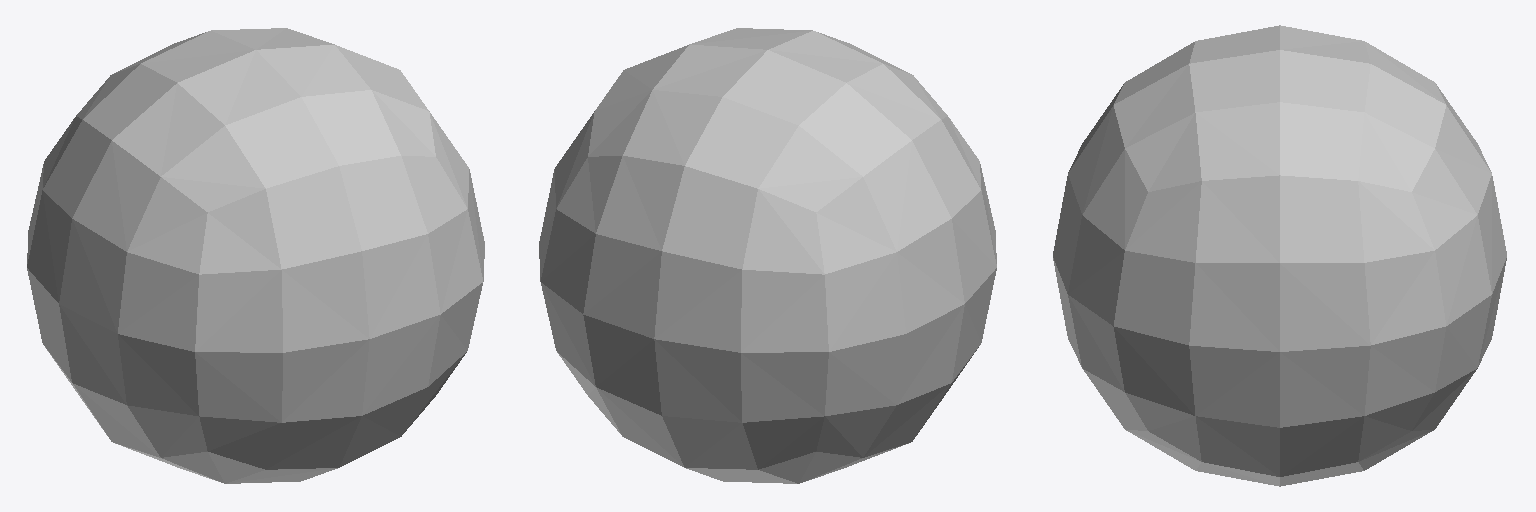
File: SphereToy.obj
3 views of the same model, side by side, from view 1: azimuth 30°, elevation 25°; view 2: azimuth 150°, elevation 25°; view 3: azimuth 270°, elevation 25° (orthographic).
Parts seen in each view (by area): view 1: SphereToy; view 2: SphereToy; view 3: SphereToy.
Part boxes in pixels (left/top/right/bottom): SphereToy: left=27, top=28, right=484, bottom=483; SphereToy: left=539, top=28, right=996, bottom=483; SphereToy: left=1053, top=25, right=1506, bottom=486.
Size of the model in its own units: 0.2635 by 0.2635 by 0.2635.